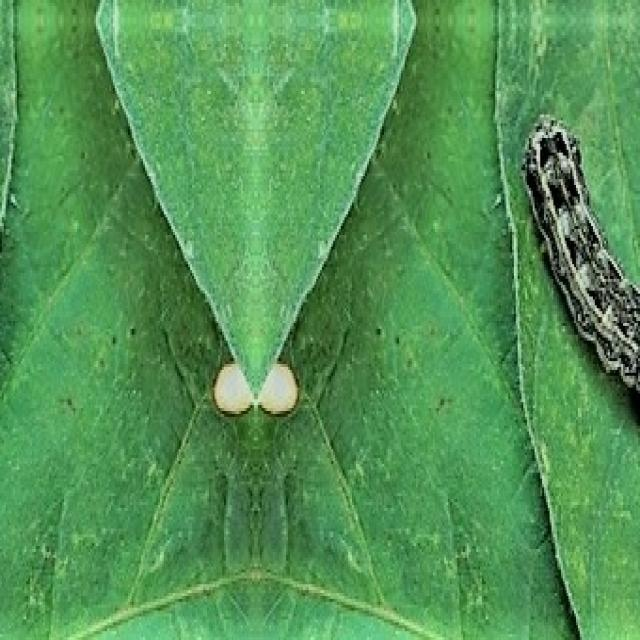armyworm: (520, 112, 638, 414)
